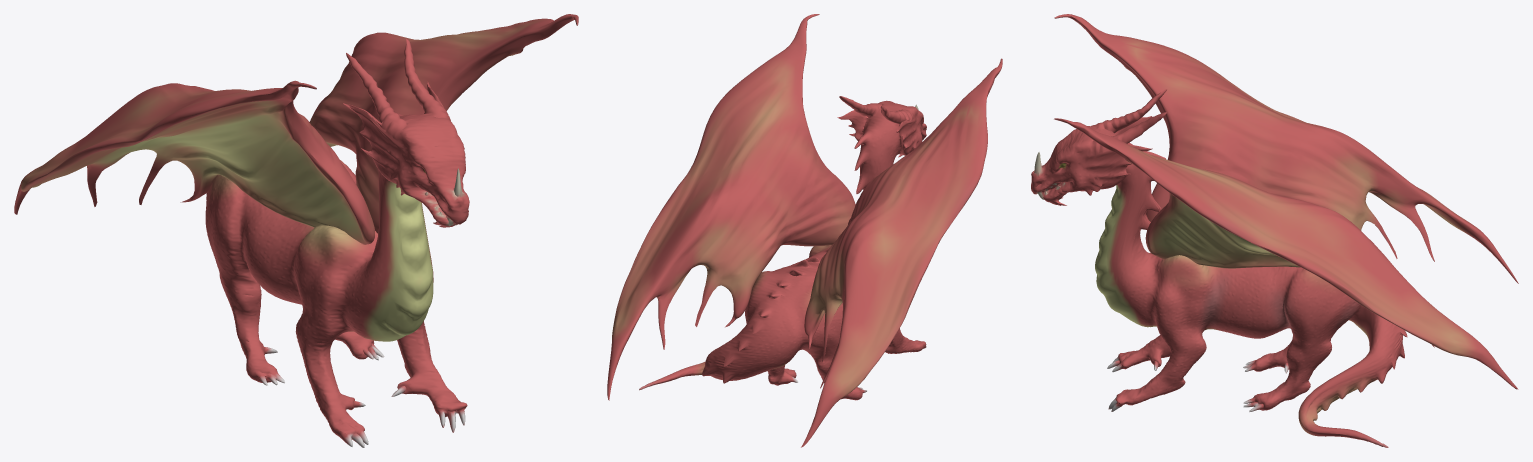
Rendered from dragon.glb.
The picture shows the model from 3 angles, left to right: view 1: azimuth 30°, elevation 25°; view 2: azimuth 150°, elevation 25°; view 3: azimuth 270°, elevation 25°; orthographic projection. The views are drawn at different scales.
Size of the model in its own units: 63.81 by 65.87 by 89.15.
